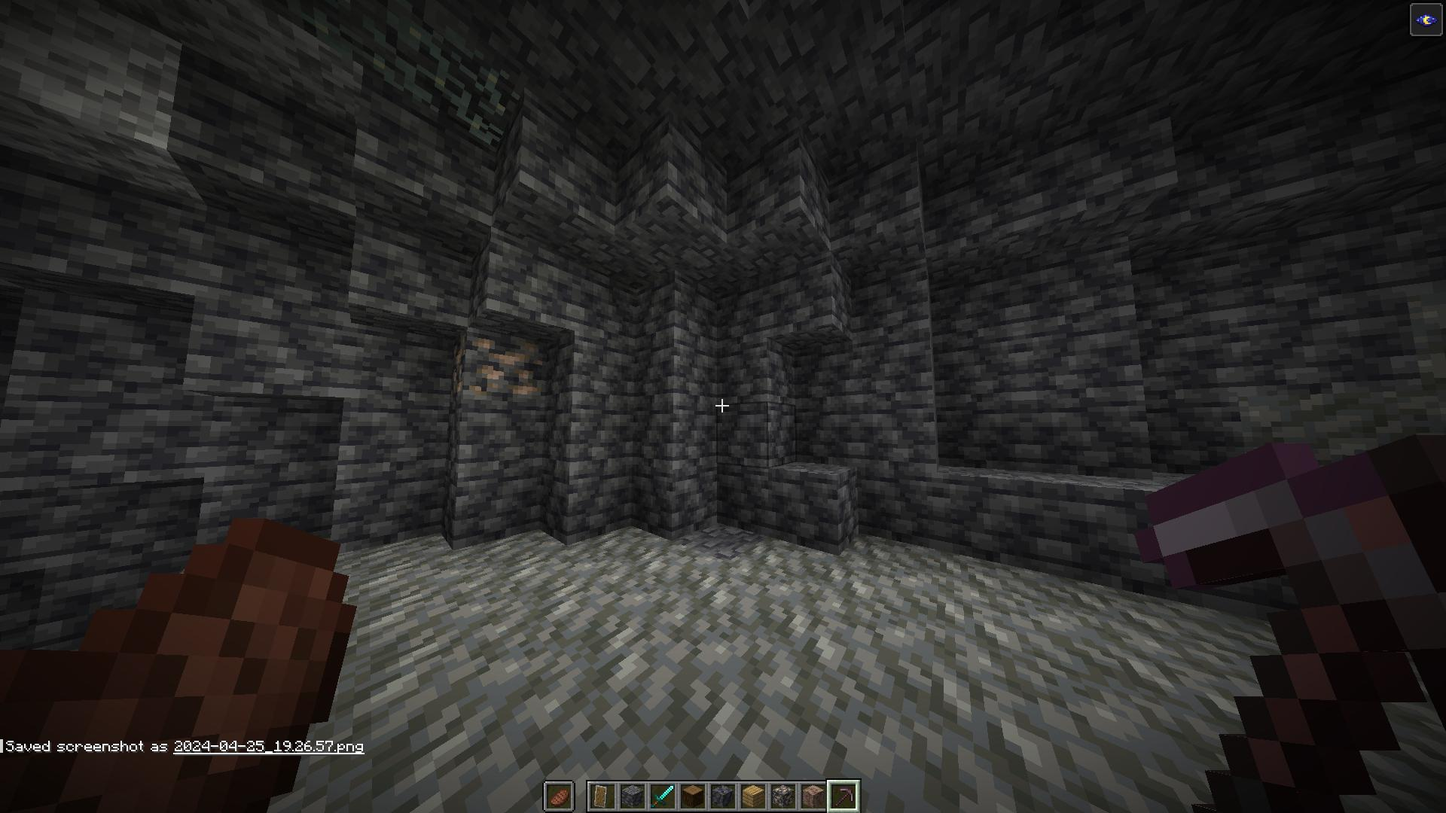iron ore: (459, 327, 551, 405)
